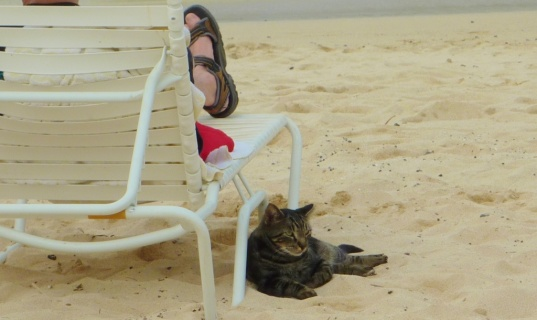Cat: (244, 201, 388, 300)
